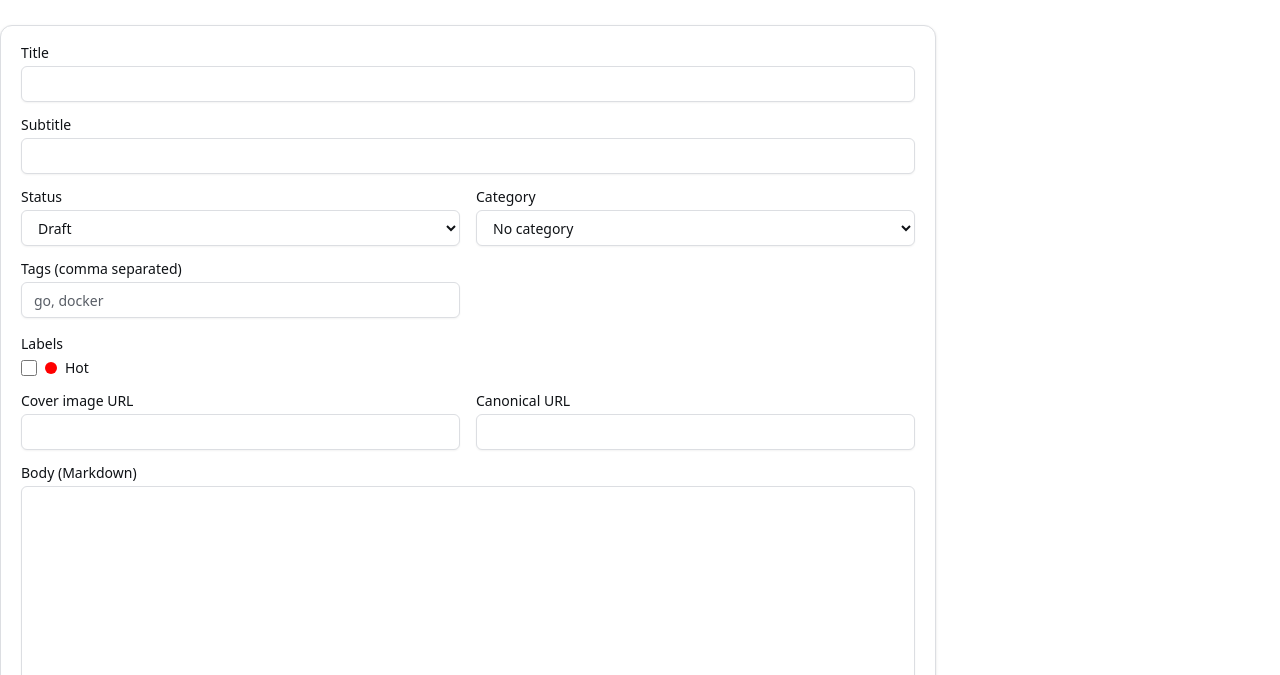
Test case: PostEditorPage › scheduled needs a publish time
This screenshot has width=1280, height=675.
Type "x" into the field labelled "Title" at (468, 84), box [21,66,915,102]
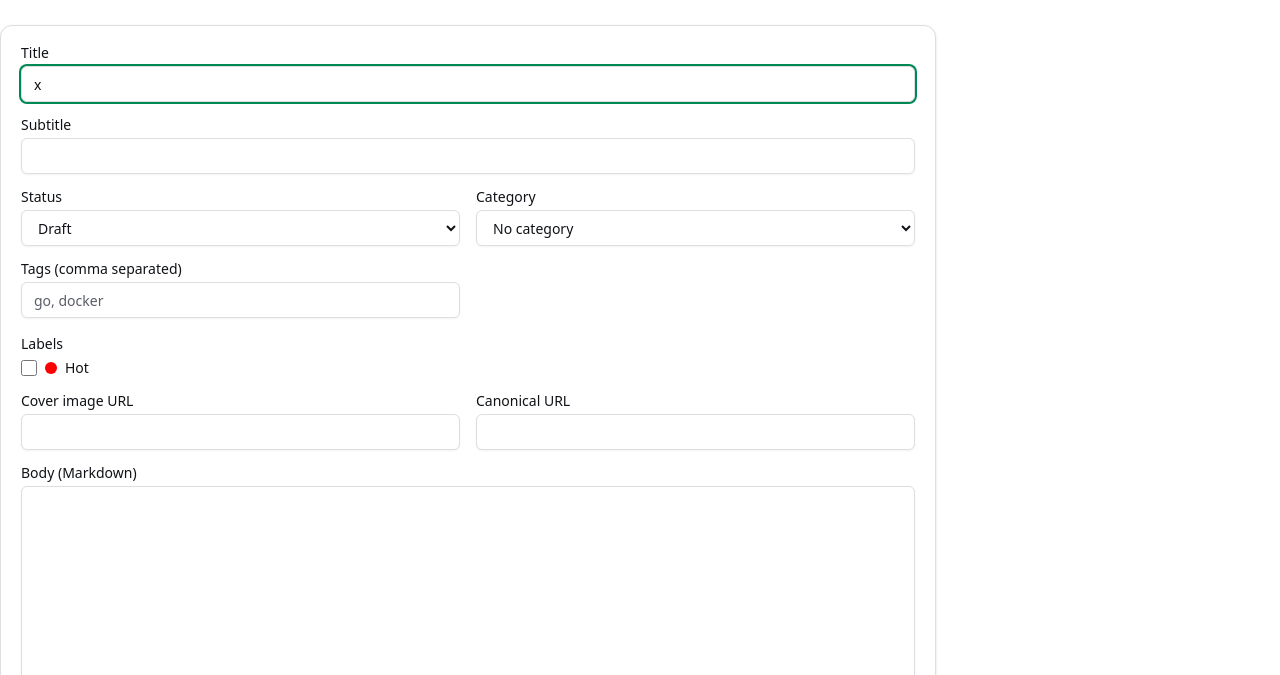
Select "Scheduled" in the dropdown labelled "Status" at (240, 228), box [21,210,460,246]
(page scrolled)
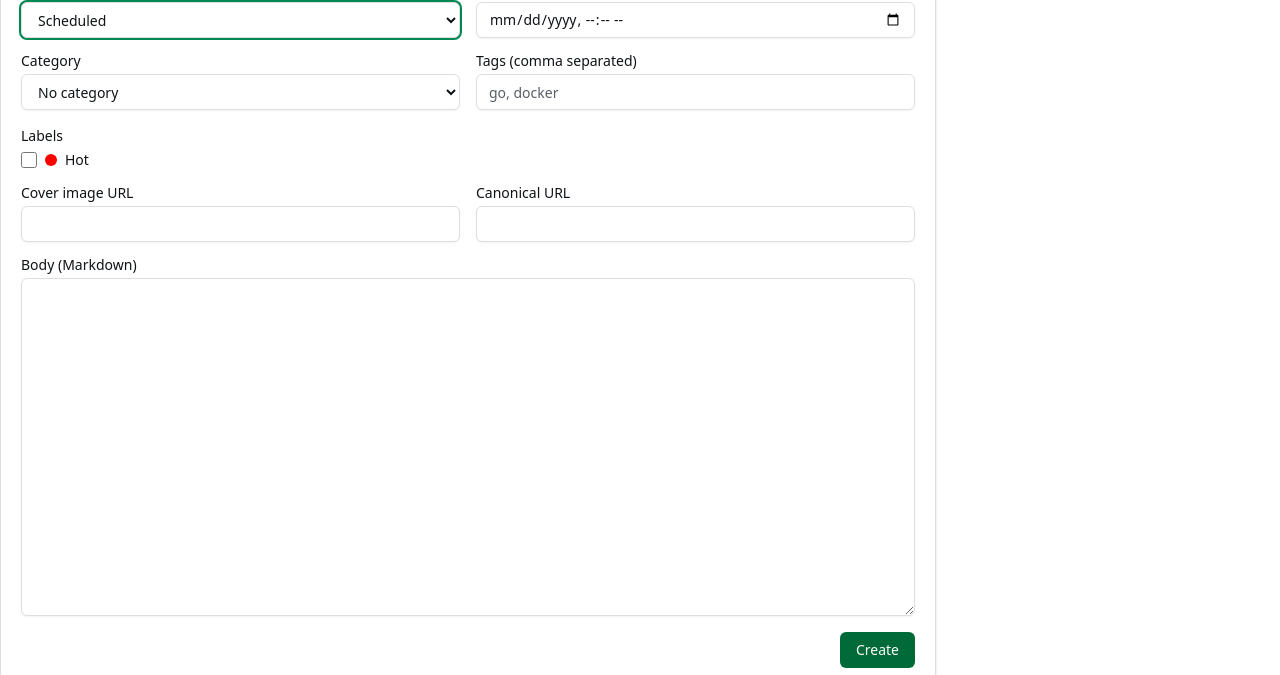
Click the button "Create" at (877, 650), box [840,632,915,668]
(page scrolled)
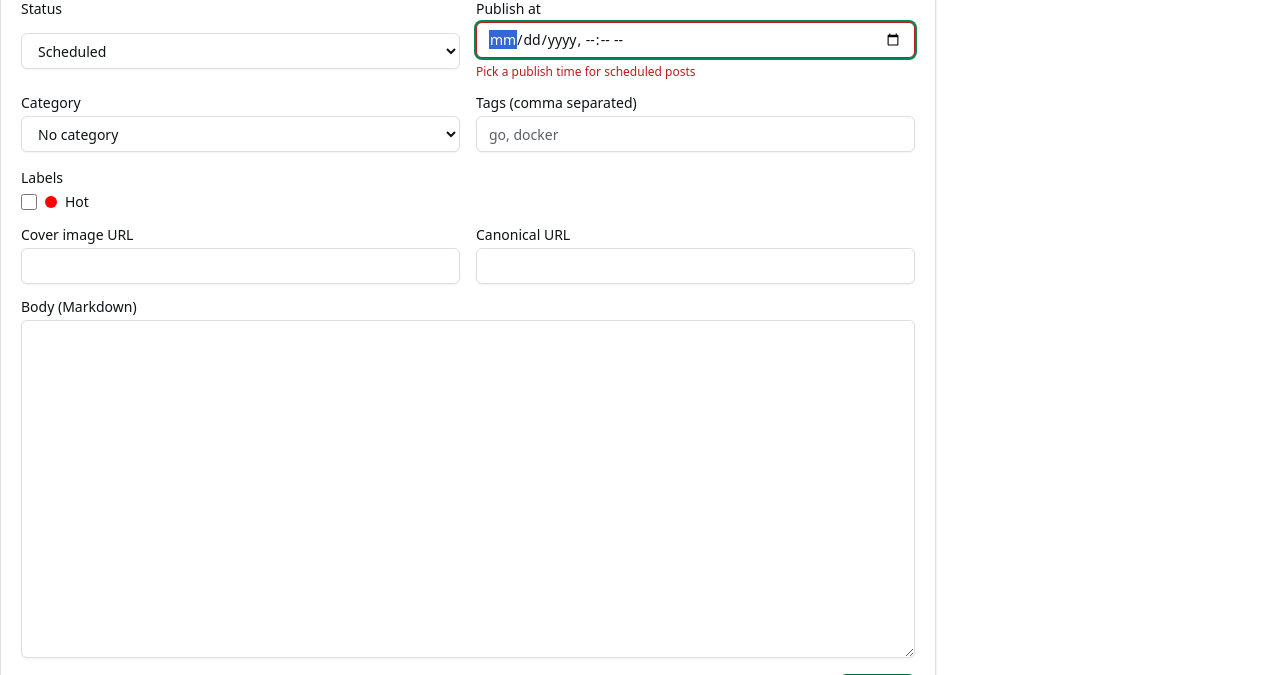
Check: the text "Pick a publish time for scheduled posts" is shown, box [476,63,696,80]
